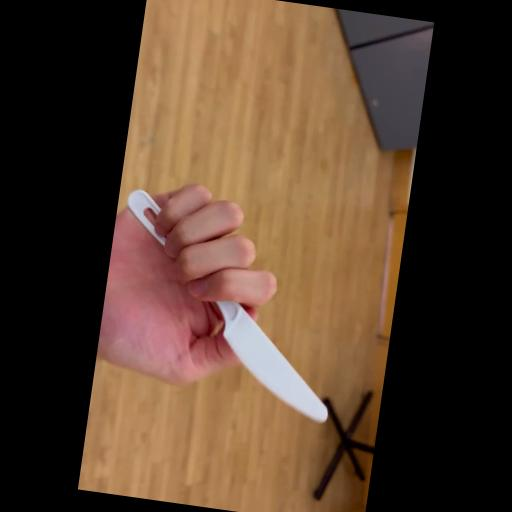utensil: (99, 180, 359, 428)
